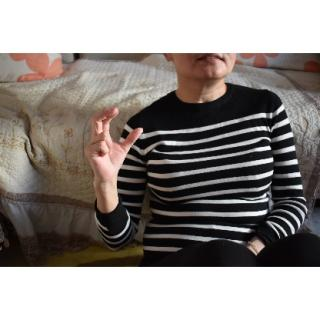DHELL: (83, 104, 144, 195)
